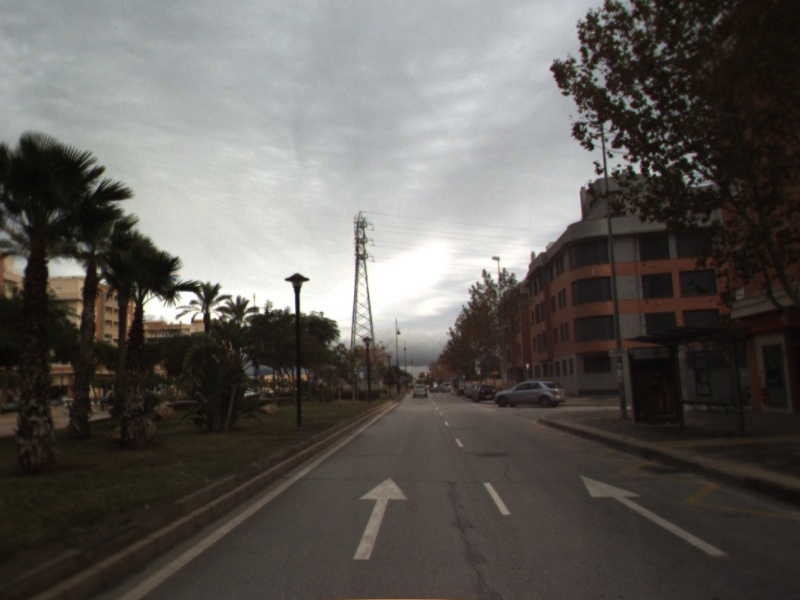STRAIGHT: (578, 473, 730, 558), (351, 475, 410, 562)
